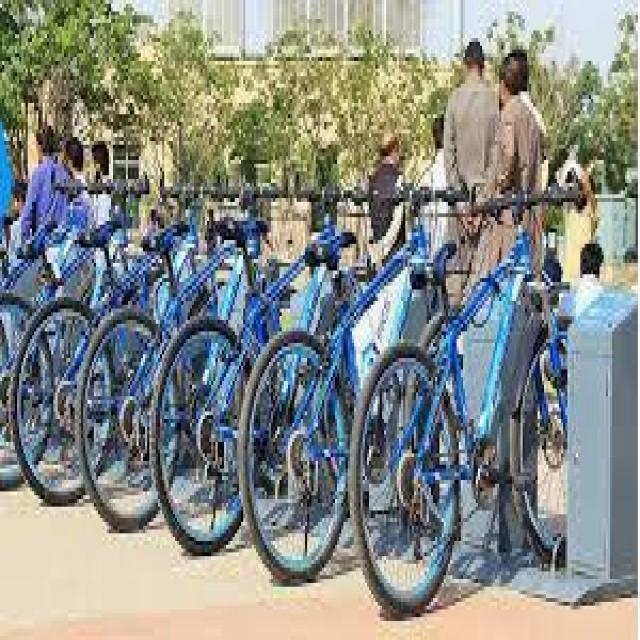bicycle: (355, 211, 577, 615), (242, 222, 428, 584), (80, 222, 219, 535), (157, 219, 279, 554), (10, 218, 132, 508)
